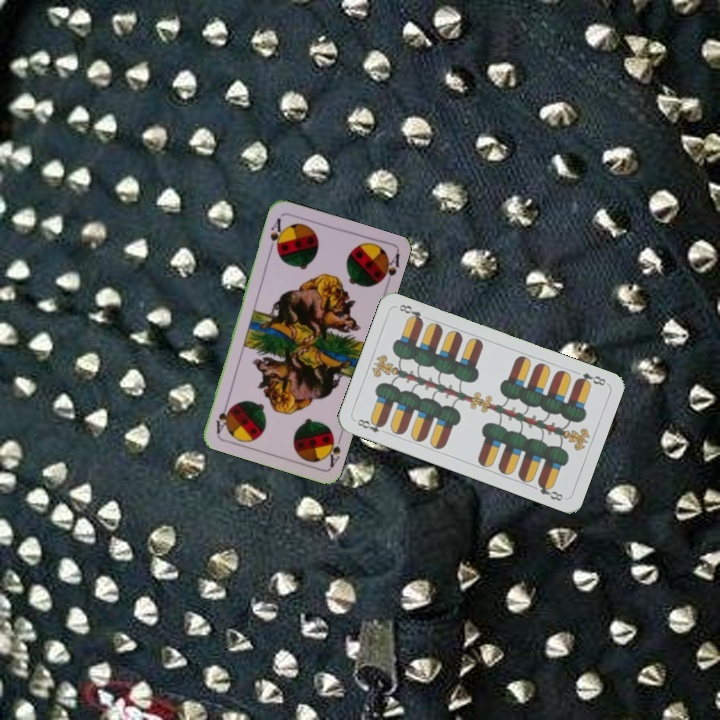E8: (351, 415, 390, 437), (571, 368, 608, 389)
SA: (320, 428, 345, 470), (265, 214, 286, 254)
